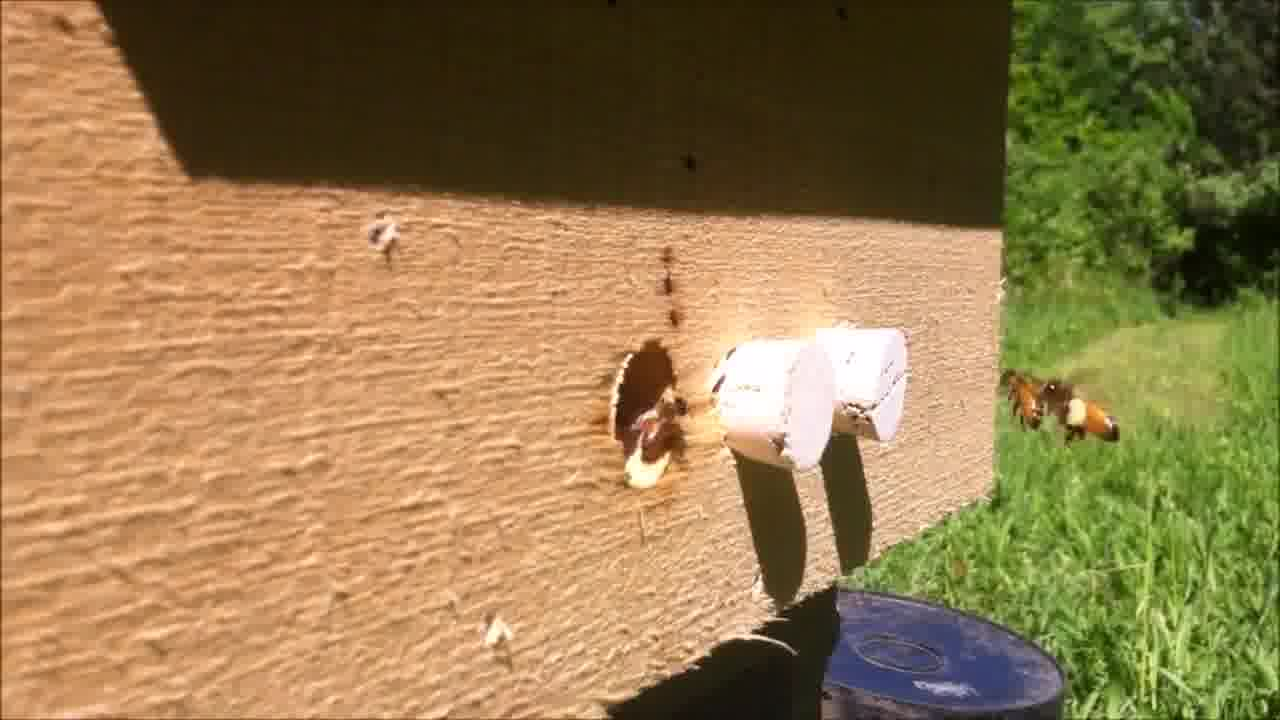pollen: (1040, 375, 1127, 451)
